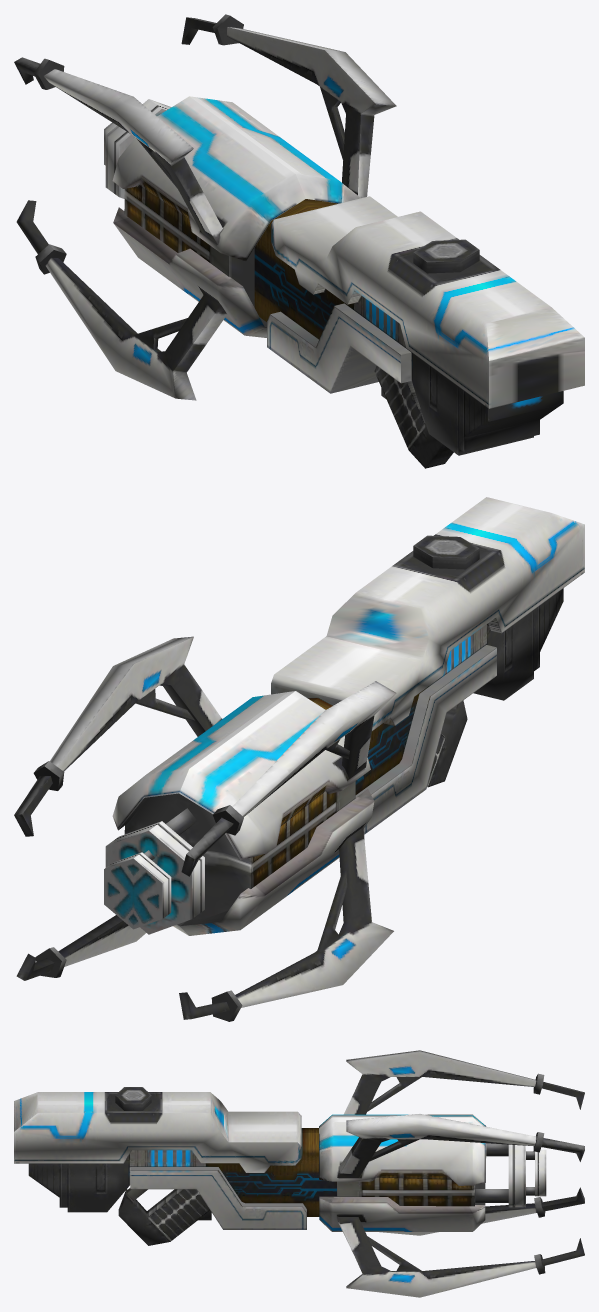
File: gun32.obj
The picture shows the model from 3 angles, top to bottom: view 1: azimuth 30°, elevation 25°; view 2: azimuth 150°, elevation 25°; view 3: azimuth 270°, elevation 25°; orthographic projection. The views are drawn at different scales.
Parts seen in each view (by area): view 1: Morpheus; view 2: Morpheus; view 3: Morpheus.
Part boxes in pixels (bbox=[...]): Morpheus: bbox=[14, 14, 584, 468]; Morpheus: bbox=[14, 497, 584, 1021]; Morpheus: bbox=[14, 1050, 584, 1297].
Size of the model in its own units: 0.4063 by 0.4621 by 1.31.
Materials: 1 (1 with a texture image).
